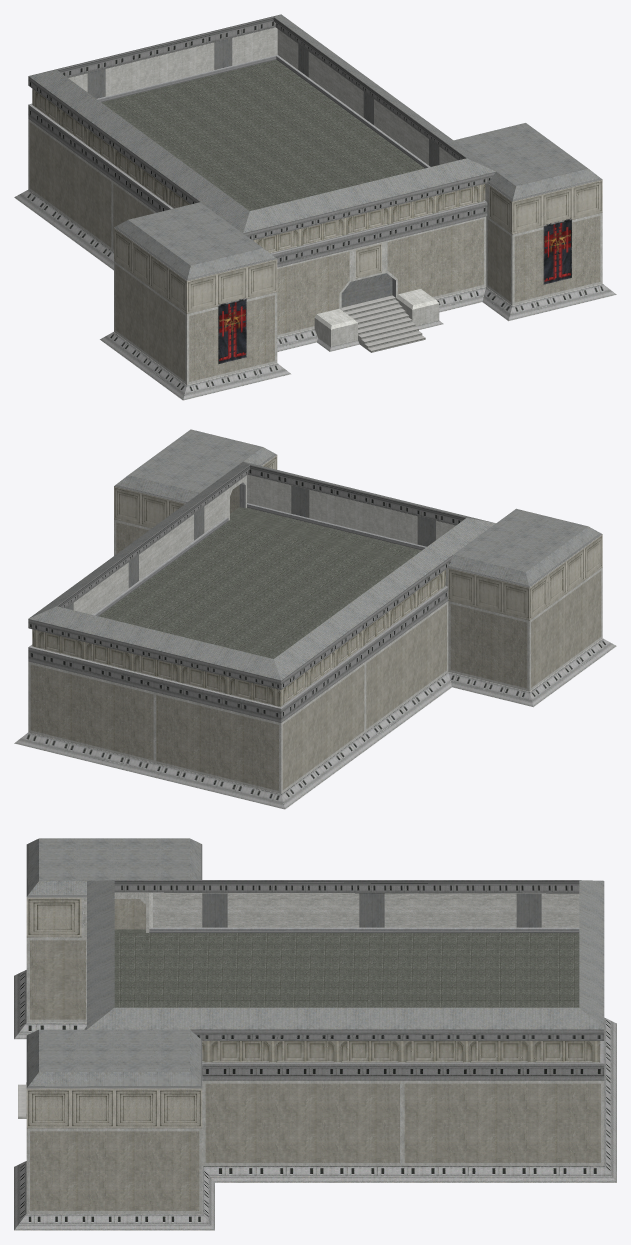
The model's file is ply_corl_assoc_hall_civ_s01_l1.fbx.
The picture shows the model from 3 angles, top to bottom: view 1: azimuth 30°, elevation 25°; view 2: azimuth 150°, elevation 25°; view 3: azimuth 270°, elevation 25°; orthographic projection. The views are drawn at different scales.
Parts seen in each view (by area): view 1: mesh_node; view 2: mesh_node; view 3: mesh_node.
Part boxes in pixels (left/top/right/bottom): mesh_node: left=14, top=14, right=616, bottom=400; mesh_node: left=14, top=429, right=616, bottom=809; mesh_node: left=14, top=838, right=616, bottom=1230.
Bounding box in the file's own units: 48 × 14 × 48.
